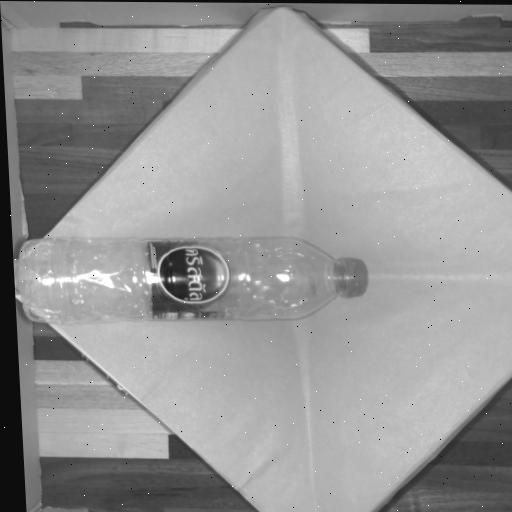bottle: (21, 228, 371, 319)
